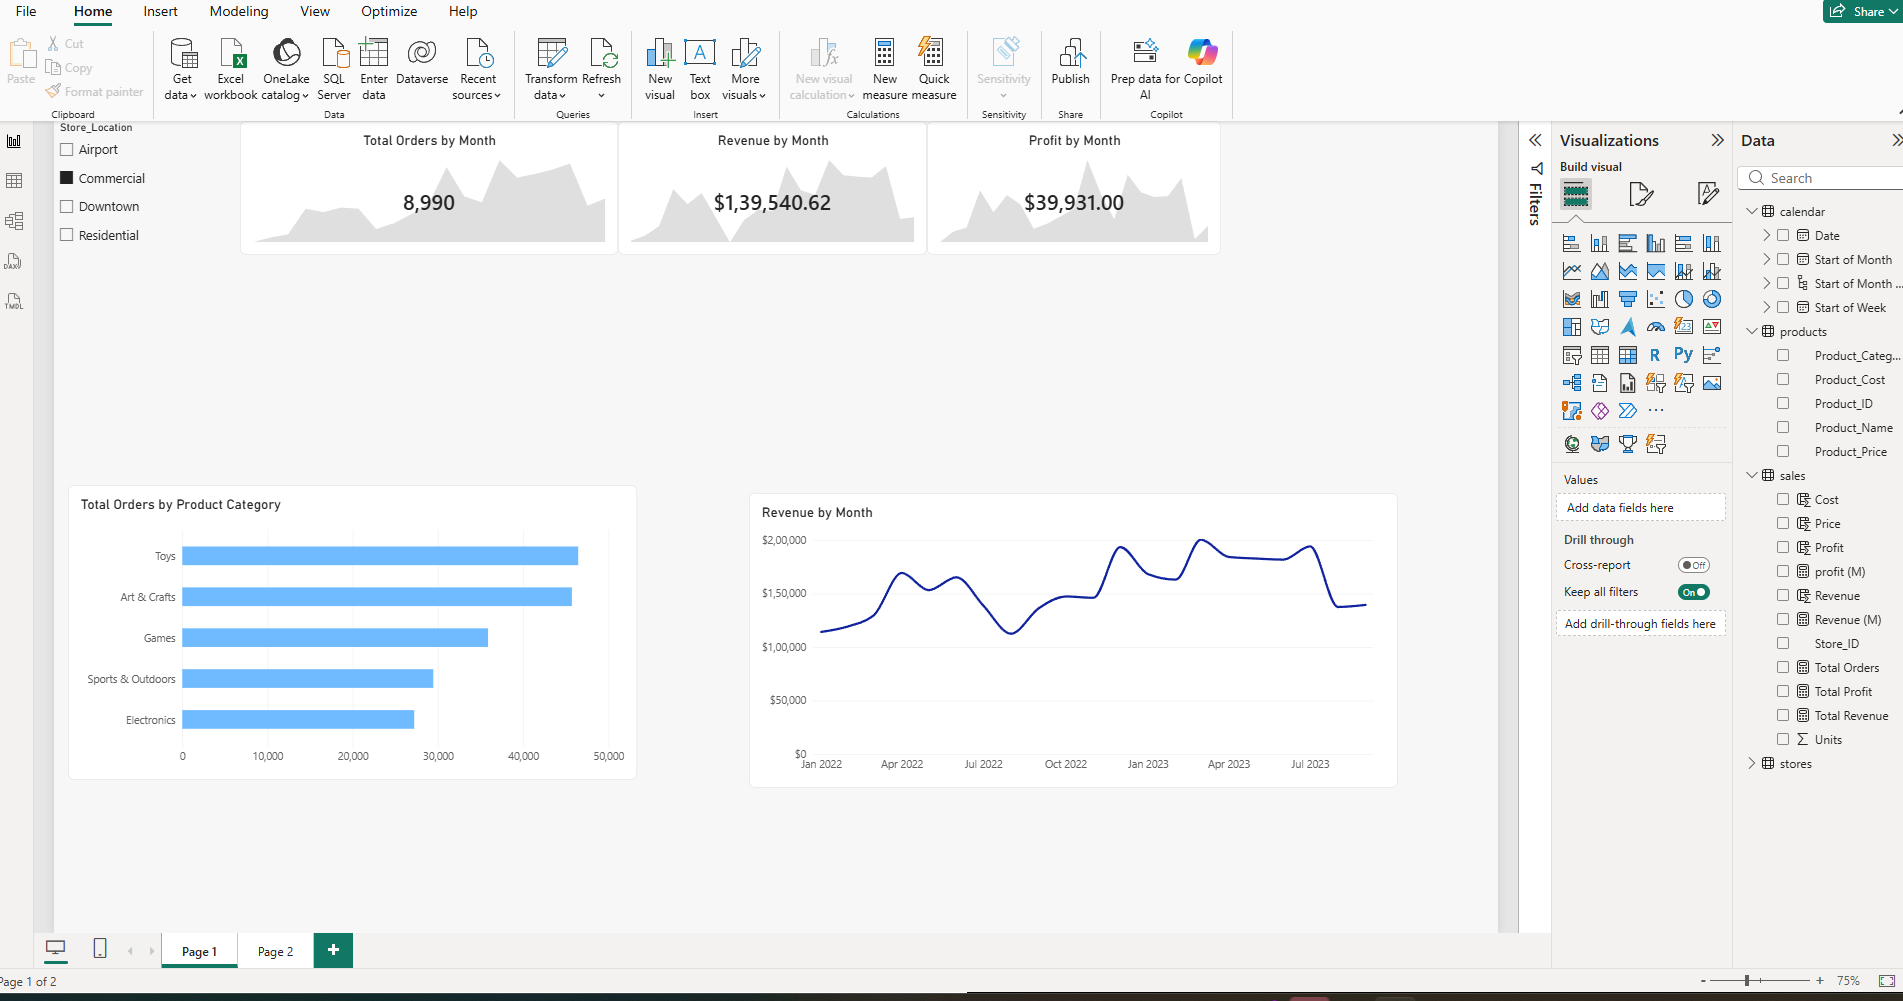

The dashboard page shown, as its layout file describes it:
{"tool":"powerbi","page":{"name":"Page 1","canvas":[1920,1080],"ordinal":0},"visuals":[{"type":"kpi","title":"Total Orders by Month","fields":{"Indicator":["sales.Total Orders"],"TrendLine":["calendar.Start of Month"]},"box":[247.4,0,502.8,178.2],"z":1},{"type":"kpi","title":"Revenue by Month","fields":{"Indicator":["sales.Revenue (M)"],"TrendLine":["calendar.Start of Month"]},"box":[750.1,0,411,178.2],"z":4},{"type":"kpi","title":"Profit by Month","fields":{"Indicator":["sales.profit (M)"],"TrendLine":["calendar.Start of Month"]},"box":[1161.1,0,391,178.2],"z":5},{"type":"slicer","fields":{"Values":["stores.Store_Location"]},"box":[0,0,247.4,178.2],"z":6},{"type":"barChart","title":"Total Orders by Product Category","fields":{"Category":["products.Product_Category"],"Y":["sales.Total Orders"]},"box":[18.6,484.1,756.8,392.4],"z":7},{"type":"lineChart","title":"Revenue by Month","fields":{"Category":["calendar.Start of Month Hierarchy.Start of Month","calendar.Start of Month Hierarchy.Start of Week","calendar.Start of Month Hierarchy.Date"],"Y":["sales.Revenue (M)"]},"box":[924.4,494.8,863.2,392.4],"z":8}]}

Visuals, with their boxes on the page's 1920x1080 design canvas (x1, y1, x2, y2). These are canvas units, not pixel positions in the 1903x1001 screenshot, which may show the page scaled, cropped or inside an application window:
"Total Orders by Month" kpi: [247, 0, 750, 178]
"Revenue by Month" kpi: [750, 0, 1161, 178]
"Profit by Month" kpi: [1161, 0, 1552, 178]
slicer - stores.Store_Location: [0, 0, 247, 178]
"Total Orders by Product Category" barChart: [19, 484, 775, 876]
"Revenue by Month" lineChart: [924, 495, 1788, 887]
